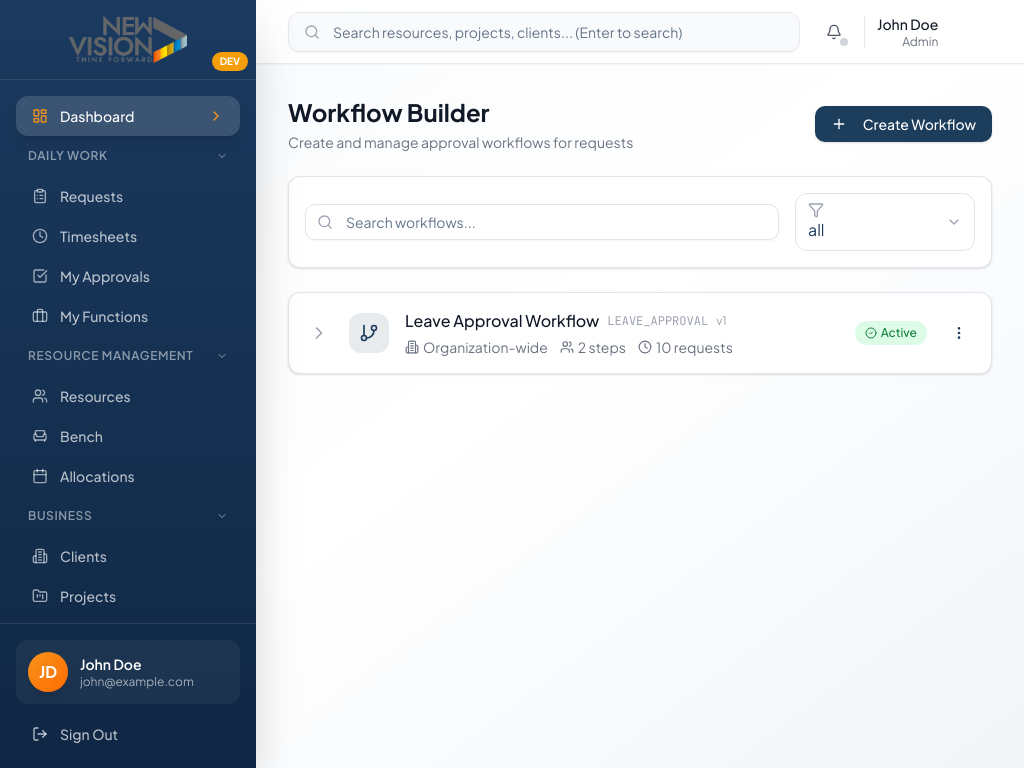
Test: WorkflowEditor › validates required fields
This screenshot has width=1024, height=768.
Click the button "Create Workflow" at coordinates (903, 124), box 815,106 -> 992,142
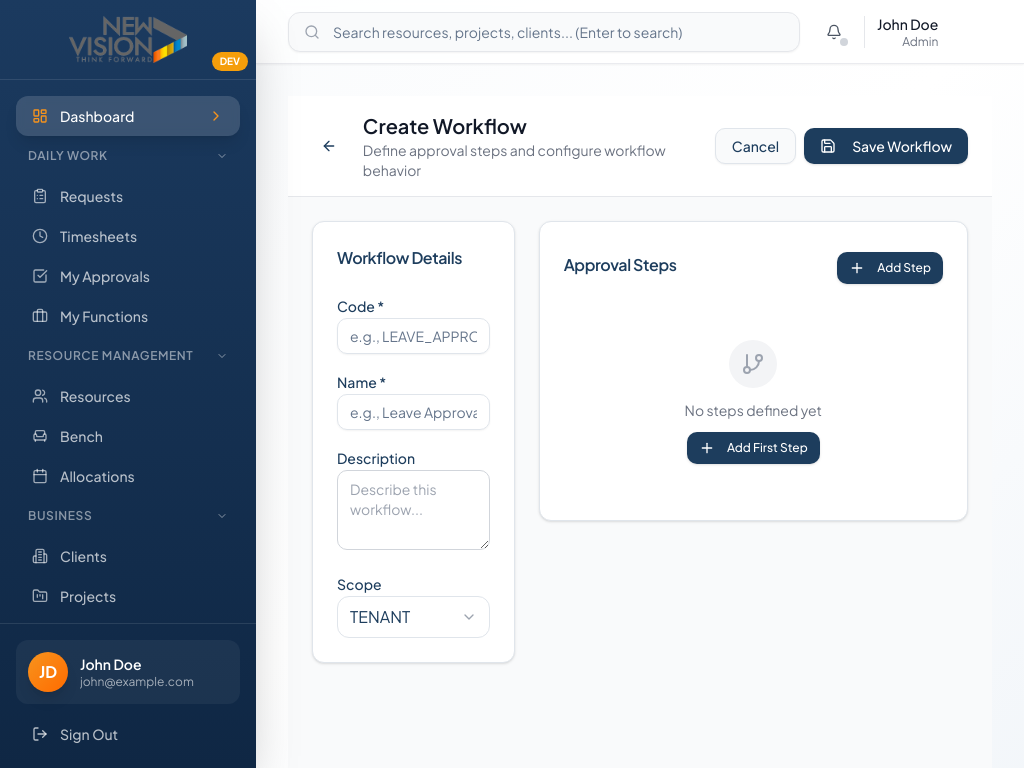
expect the heading "Create Workflow" is shown: met, box 363,113 -> 527,138
Click save without filling fields
Click the button "Save Workflow" at coordinates (886, 146), box 804,128 -> 968,164
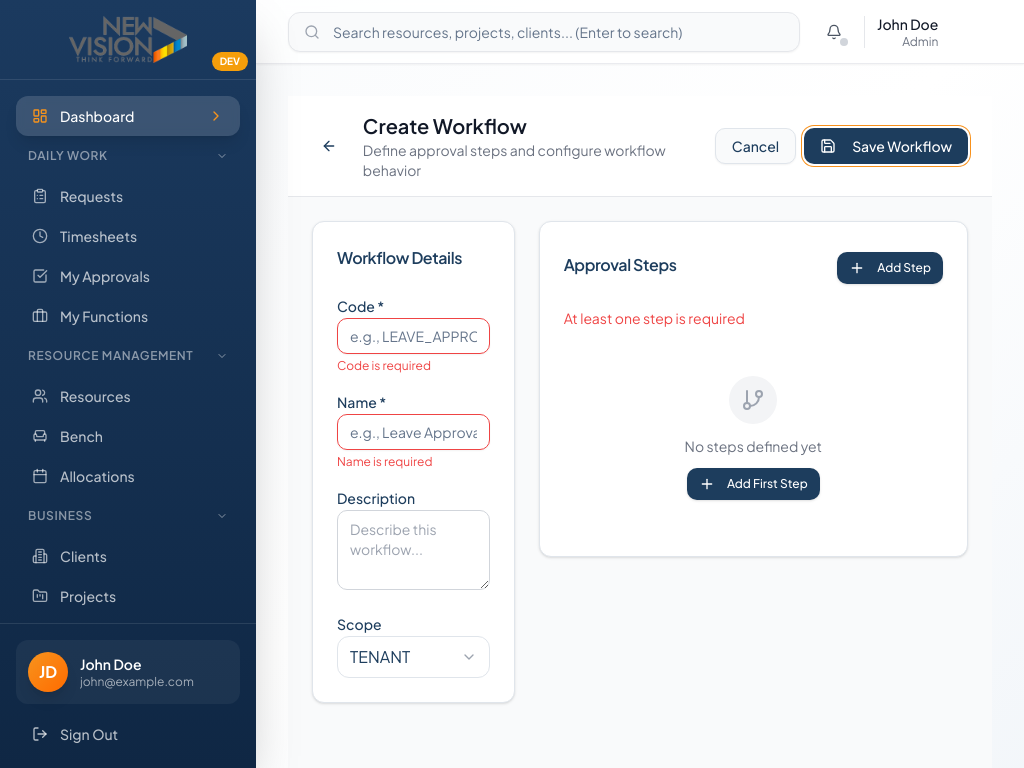
expect the text "Code is required" is shown: met, box 337,358 -> 431,373
expect the text "Name is required" is shown: met, box 337,454 -> 432,469
expect the text "At least one step is required" is shown: met, box 564,309 -> 745,327
